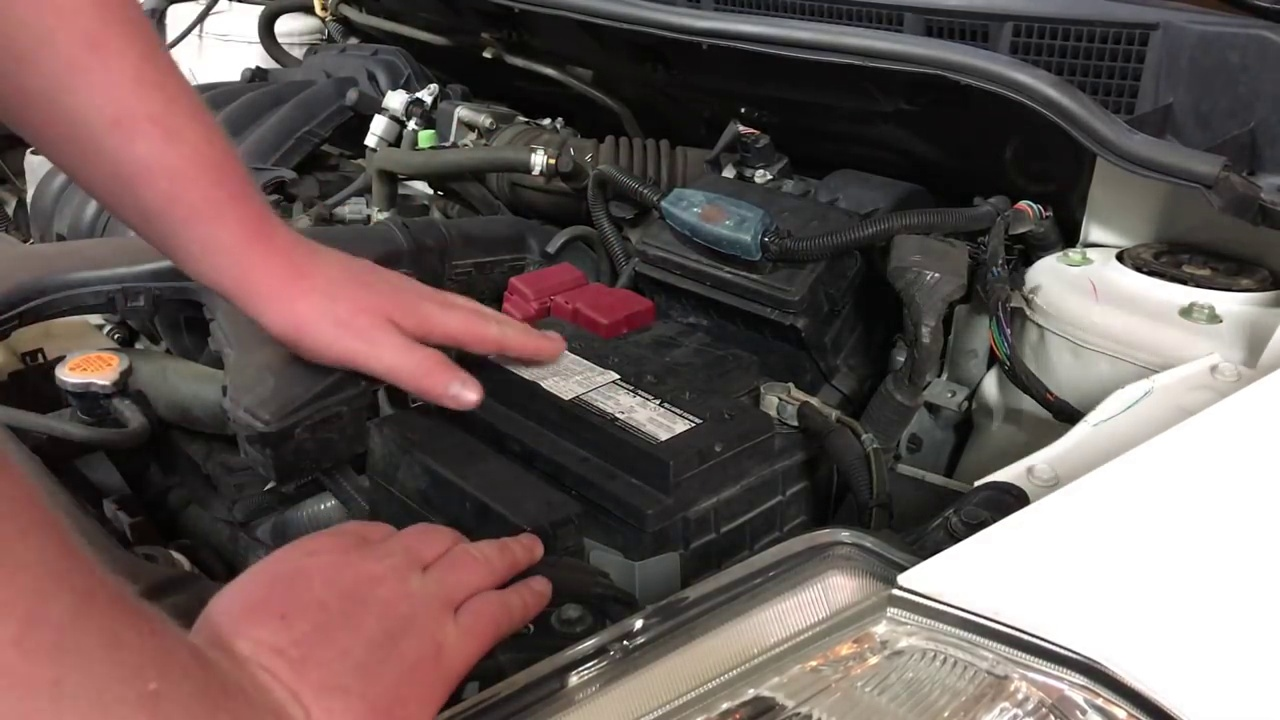battery: (457, 279, 812, 471)
neg_connected: (744, 357, 840, 452)
pos_connected: (490, 251, 676, 343)
pos_touched: (447, 245, 656, 360)
